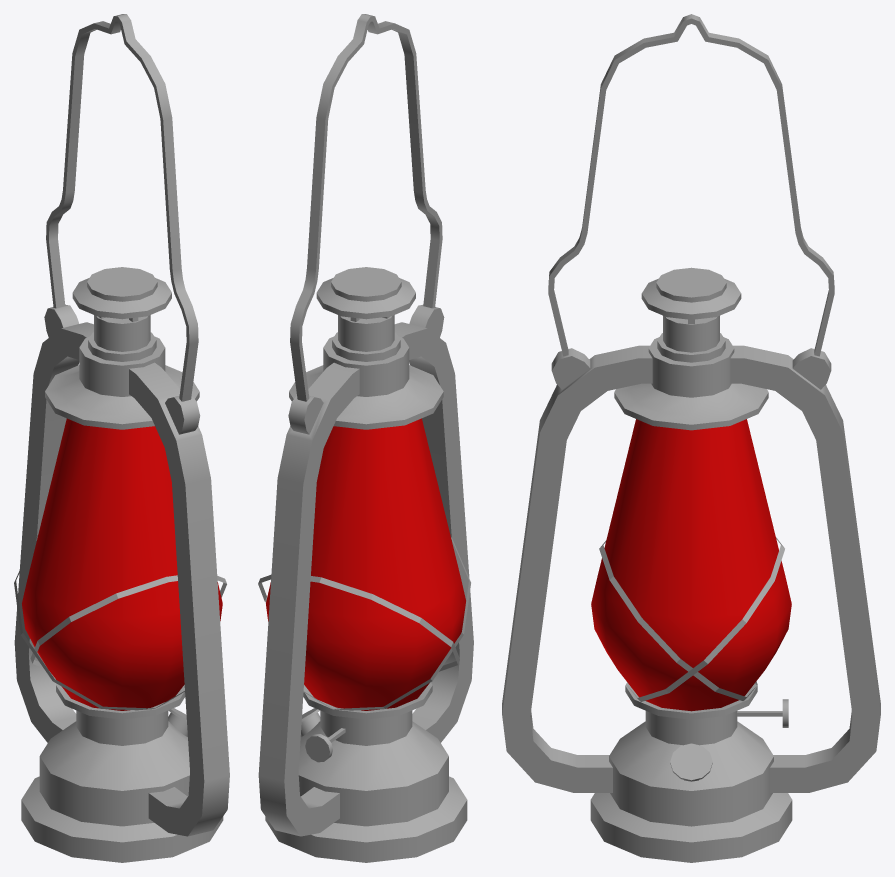
File: Lamp_3.fbx
3 views of the same model, side by side, from view 1: azimuth 30°, elevation 25°; view 2: azimuth 150°, elevation 25°; view 3: azimuth 270°, elevation 25° (orthographic).
Parts seen in each view (by area): view 1: Lamp_3; view 2: Lamp_3; view 3: Lamp_3.
Part boxes in pixels (bbox=[...]): Lamp_3: bbox=[14, 14, 229, 862]; Lamp_3: bbox=[258, 14, 473, 862]; Lamp_3: bbox=[502, 14, 880, 862].
Size of the model in its own units: 7.68 by 31.69 by 13.53.
